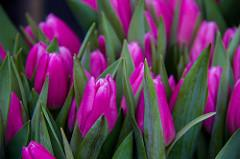tulip: (76, 72, 118, 138), (138, 78, 175, 145), (25, 14, 86, 54), (35, 51, 68, 111), (198, 64, 228, 128), (194, 22, 222, 70), (228, 48, 240, 137), (0, 86, 22, 131), (123, 44, 149, 72), (22, 140, 57, 159)
